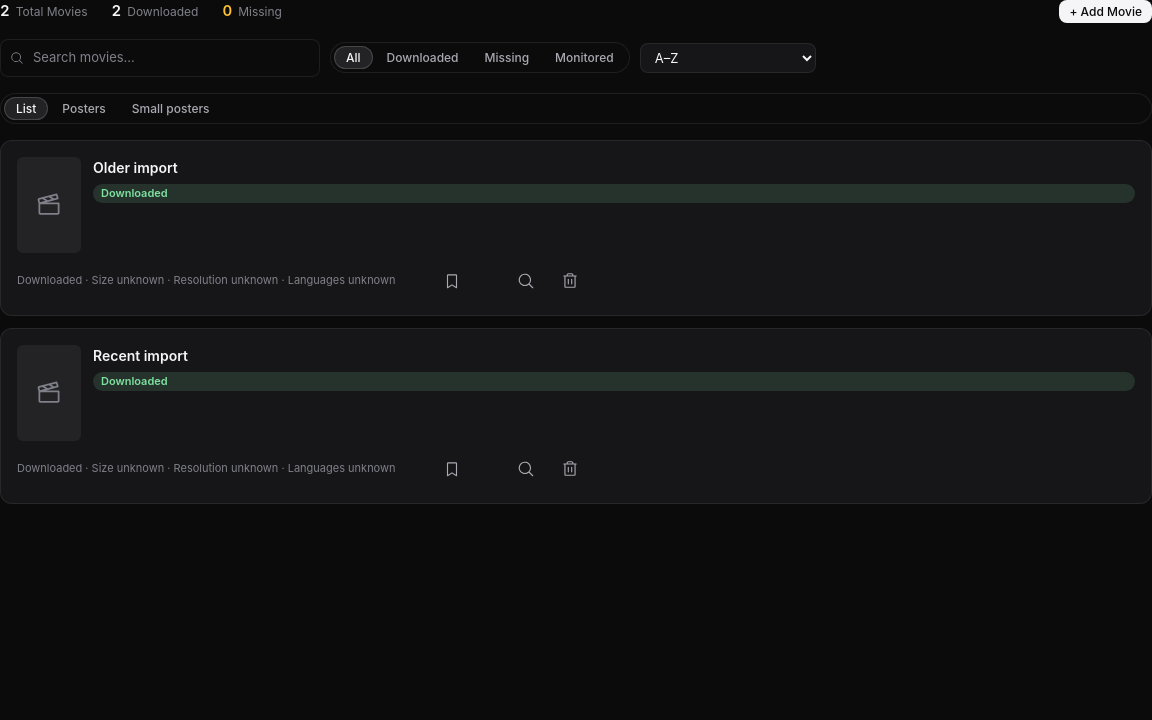
Scenario: recently downloaded sorts by file import date, view persists, legacy removal is explained
Check: the text "Older import" is shown, box [93,158,178,176]
Select "Recently Downloaded" in the dropdown named "Sort results" at (728, 58), box [640,43,816,73]
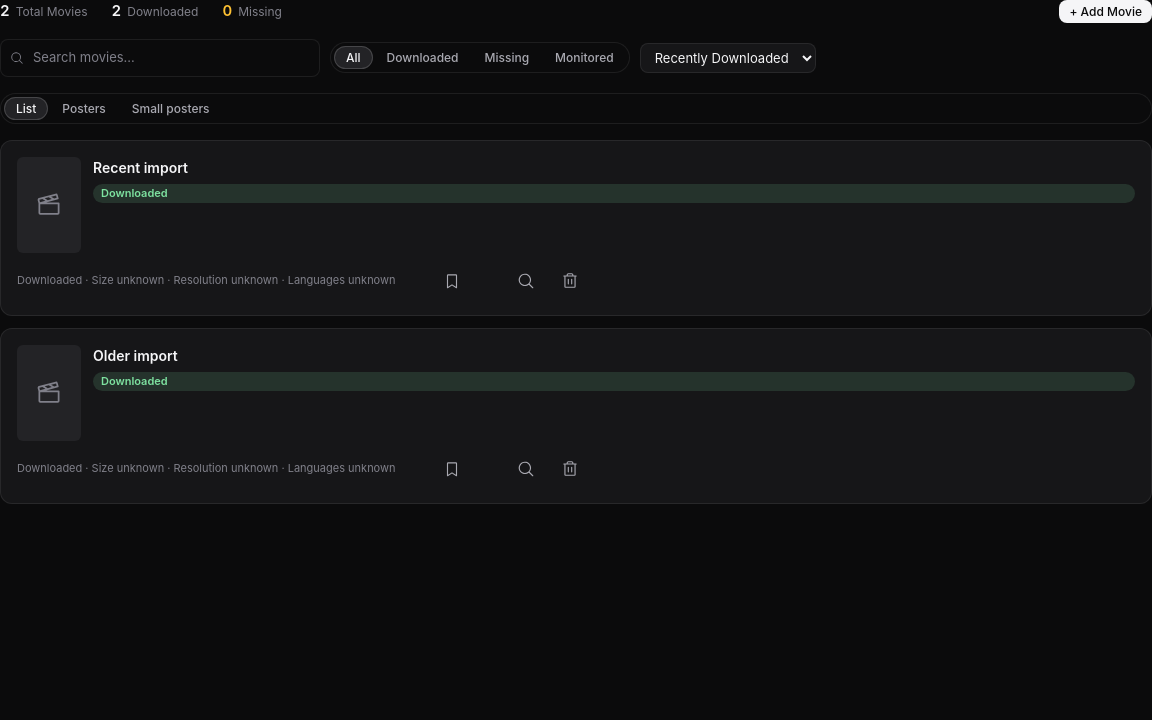
Click the button "Posters".
click(84, 108)  # box [50,96,118,120]
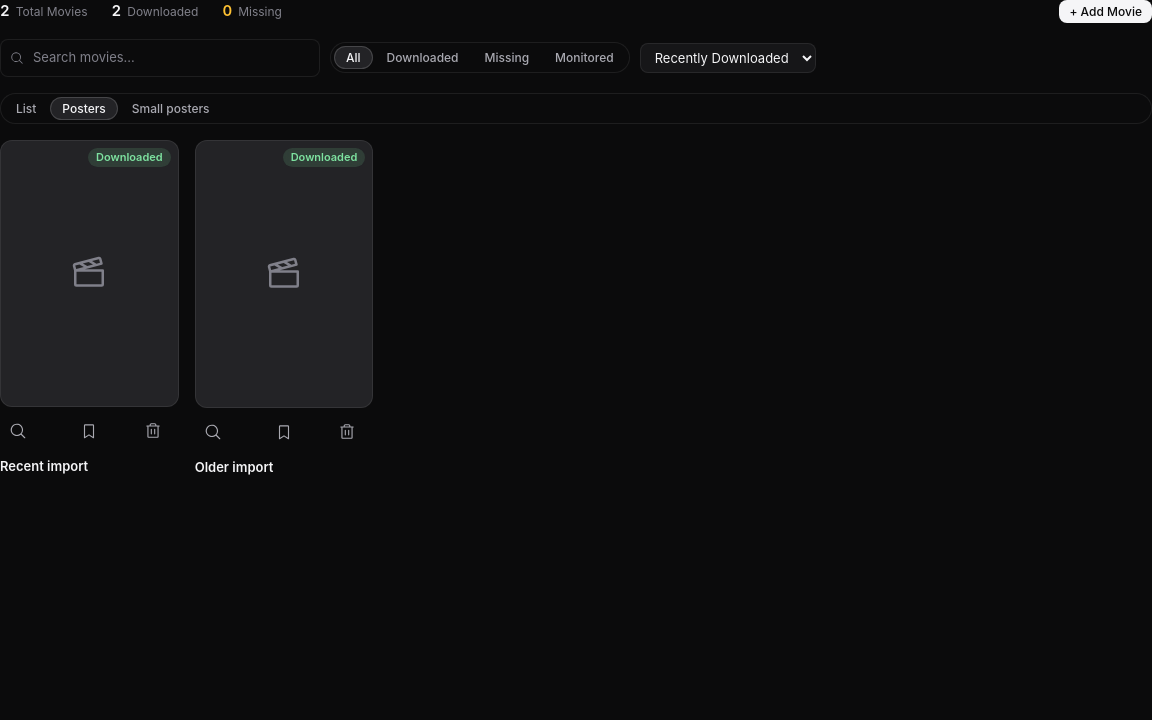
Click the button named "Delete Recent import".
click(153, 432)  # box [135,414,171,450]
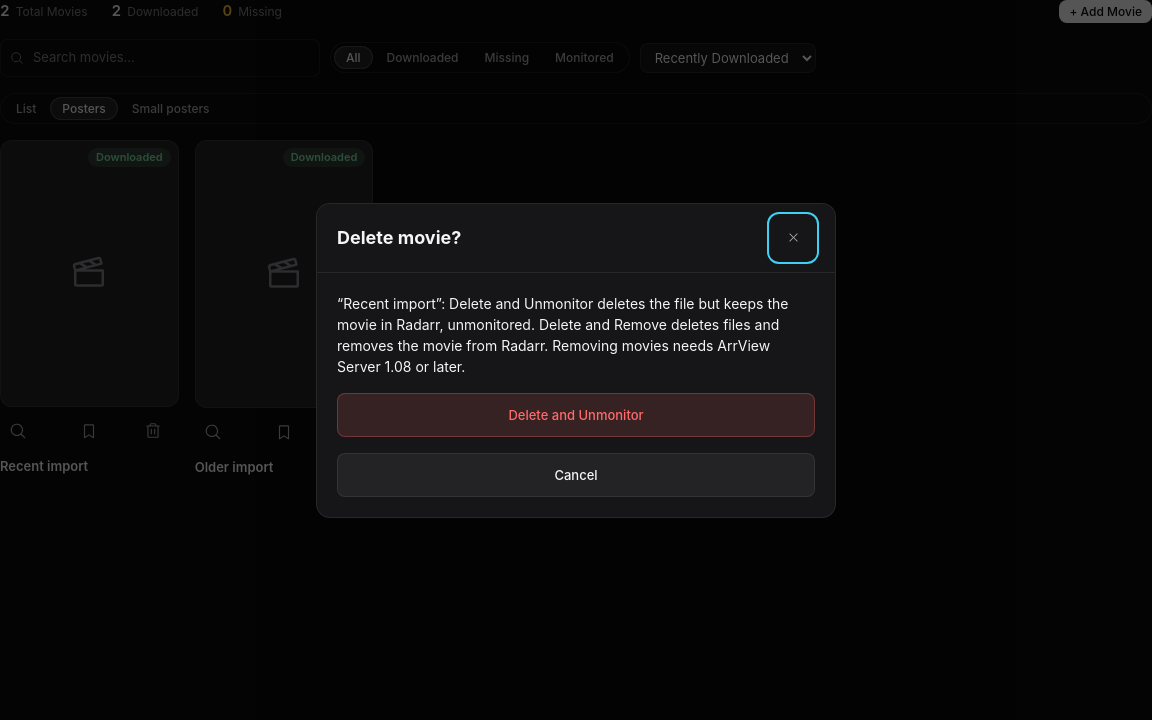
Check: the text "needs ArrView Server 1.08" is shown, box [337,294,788,374]
